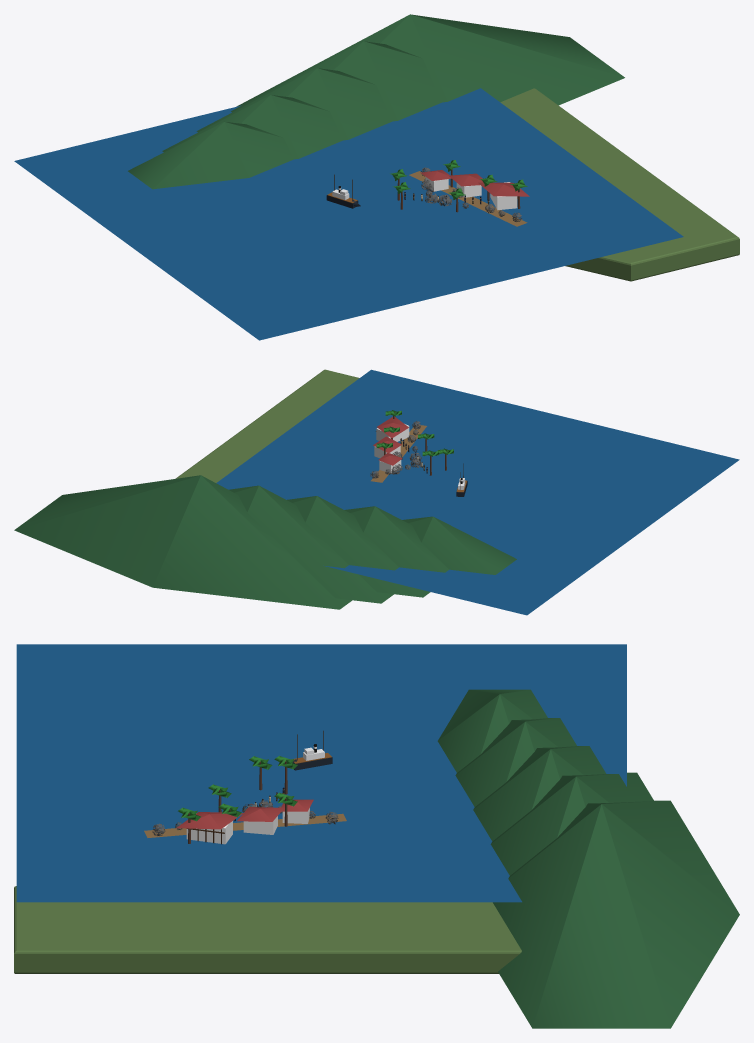
The model's file is 19.banten_exile_historical_scene.glb.
The picture shows the model from 3 angles, top to bottom: view 1: azimuth 30°, elevation 25°; view 2: azimuth 150°, elevation 25°; view 3: azimuth 270°, elevation 25°; orthographic projection. The views are drawn at different scales.
Visible parts, largest first — view 1: Terrain_Shoreline, Distant_Mountains, Colonial_Town, Tropical_Trees; view 2: Terrain_Shoreline, Distant_Mountains, Colonial_Town, Tropical_Trees; view 3: Terrain_Shoreline, Distant_Mountains, Colonial_Town, Tropical_Trees, Steamship_Harbor.
Part boxes in pixels (<box>): Terrain_Shoreline: <box>14,88,739,340</box>; Distant_Mountains: <box>128,14,624,189</box>; Colonial_Town: <box>420,170,529,210</box>; Tropical_Trees: <box>390,160,527,212</box>; Terrain_Shoreline: <box>175,369,739,615</box>; Distant_Mountains: <box>14,475,516,609</box>; Colonial_Town: <box>373,417,409,472</box>; Tropical_Trees: <box>376,410,453,475</box>; Terrain_Shoreline: <box>14,644,626,973</box>; Distant_Mountains: <box>437,689,739,1028</box>; Colonial_Town: <box>176,799,313,844</box>; Tropical_Trees: <box>178,755,297,843</box>; Steamship_Harbor: <box>292,730,332,770</box>.
Bounding box in the file's own units: 162 × 24.7 × 143.
